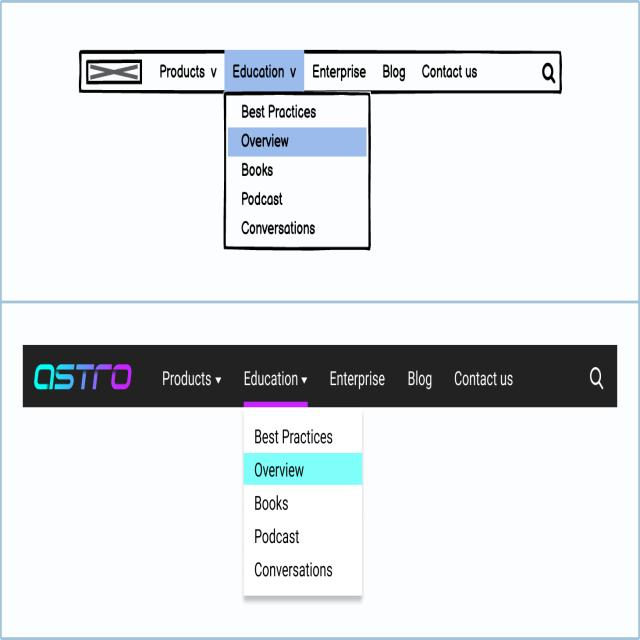buttons: (452, 362, 514, 396), (311, 58, 368, 85), (162, 370, 220, 392), (329, 369, 383, 388), (240, 373, 308, 387), (403, 363, 432, 394), (422, 64, 481, 77), (381, 58, 406, 82), (588, 360, 600, 390), (545, 59, 556, 87)
dropdown: (287, 61, 303, 82), (206, 62, 219, 82), (214, 374, 224, 391), (301, 373, 310, 388)
